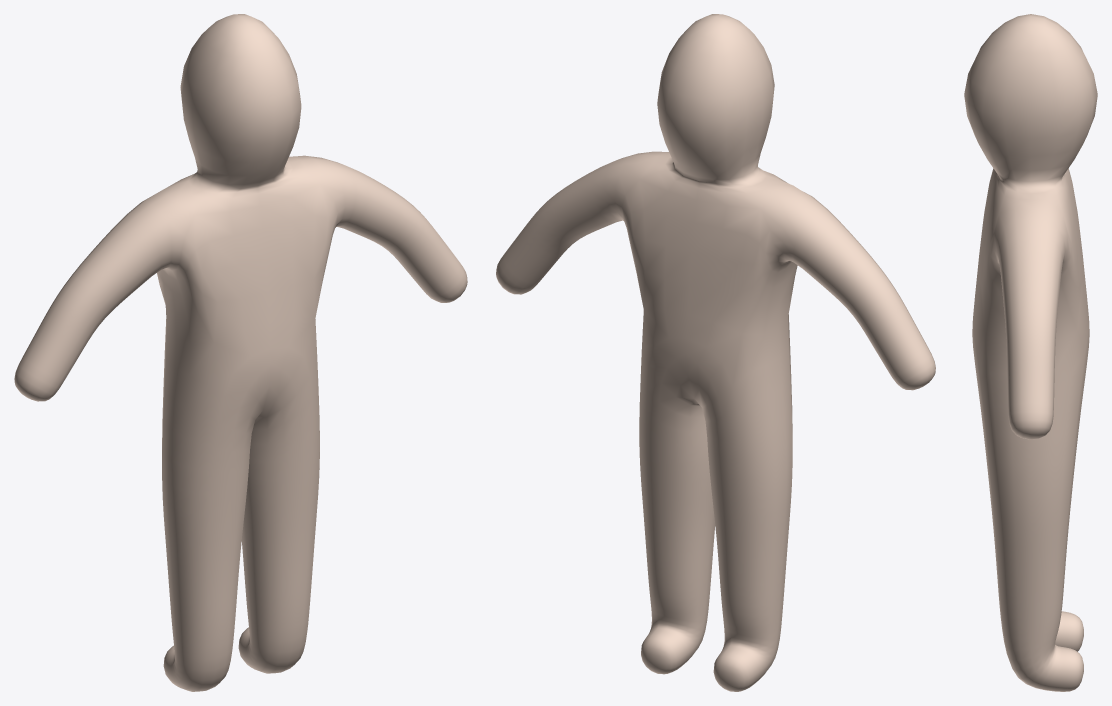
Rendered from character_B_stylized.glb.
3 renders of one model, left to right at view 1: azimuth 30°, elevation 25°; view 2: azimuth 150°, elevation 25°; view 3: azimuth 270°, elevation 25°, orthographic. The views are drawn at different scales.
Parts seen in each view (by area): view 1: B_stylized; view 2: B_stylized; view 3: B_stylized.
Part boxes in pixels (x1,y1,x2,y2): B_stylized: (14, 14, 467, 691); B_stylized: (496, 14, 935, 691); B_stylized: (964, 14, 1097, 691).
Bounding box in the file's own units: 1.05 × 1.51 × 0.2787.
